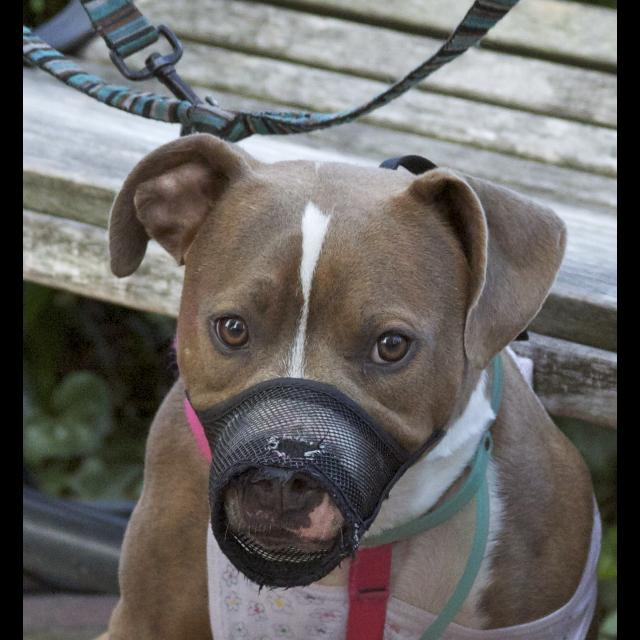am_pit_bull_terrier: (98, 133, 605, 640)
